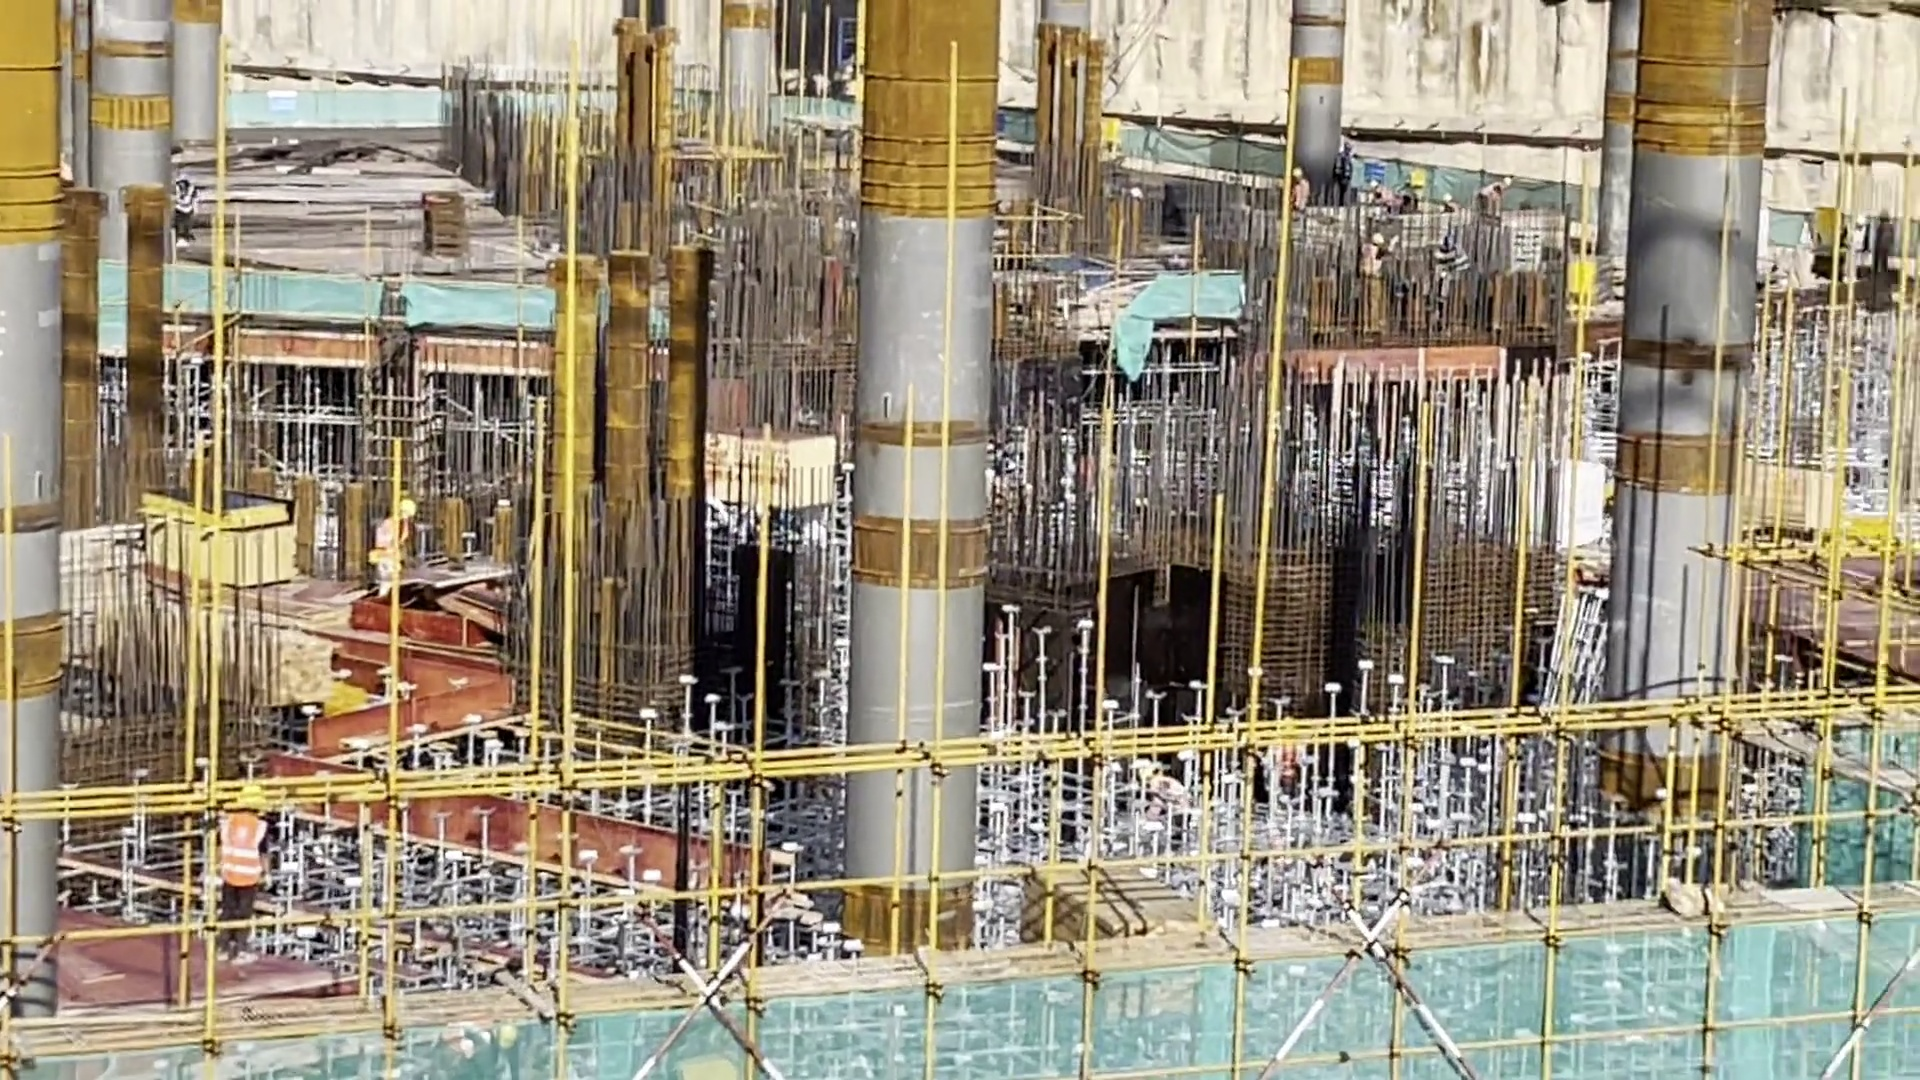helmet: (233, 786, 274, 816), (397, 490, 421, 523), (1241, 731, 1265, 748), (1127, 764, 1166, 774), (178, 167, 195, 190), (1284, 717, 1313, 727), (1368, 230, 1383, 245), (1343, 138, 1355, 156), (1446, 233, 1458, 249), (1883, 201, 1892, 218), (1373, 178, 1386, 190), (1505, 174, 1518, 183), (1297, 172, 1307, 181), (1410, 161, 1420, 169)
person: (222, 790, 289, 958), (1117, 756, 1200, 852), (371, 501, 427, 585), (1232, 721, 1271, 805), (164, 173, 209, 243), (1276, 708, 1311, 790), (1437, 233, 1478, 301), (1405, 151, 1433, 213), (1875, 192, 1893, 278), (1363, 225, 1385, 292), (1286, 168, 1314, 216), (1367, 168, 1398, 211), (1483, 167, 1509, 212), (1341, 139, 1358, 198), (1439, 185, 1458, 215)
vest: (228, 814, 265, 888), (1239, 748, 1271, 799), (366, 513, 400, 562), (1155, 781, 1197, 818), (1273, 741, 1305, 777), (1870, 217, 1895, 255), (1444, 249, 1471, 275), (1365, 243, 1386, 273), (1479, 177, 1506, 197), (1341, 159, 1359, 184), (173, 184, 188, 213), (1413, 168, 1428, 189), (1296, 180, 1306, 205), (1451, 205, 1464, 214)
